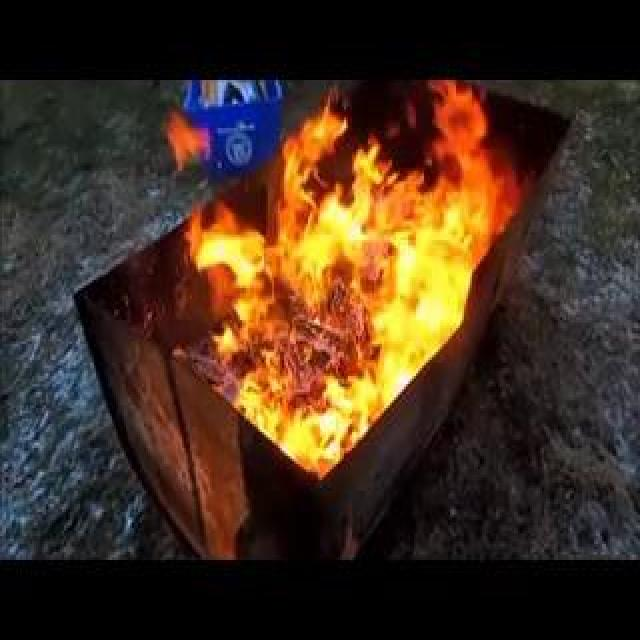Fire: (332, 284, 354, 402)
